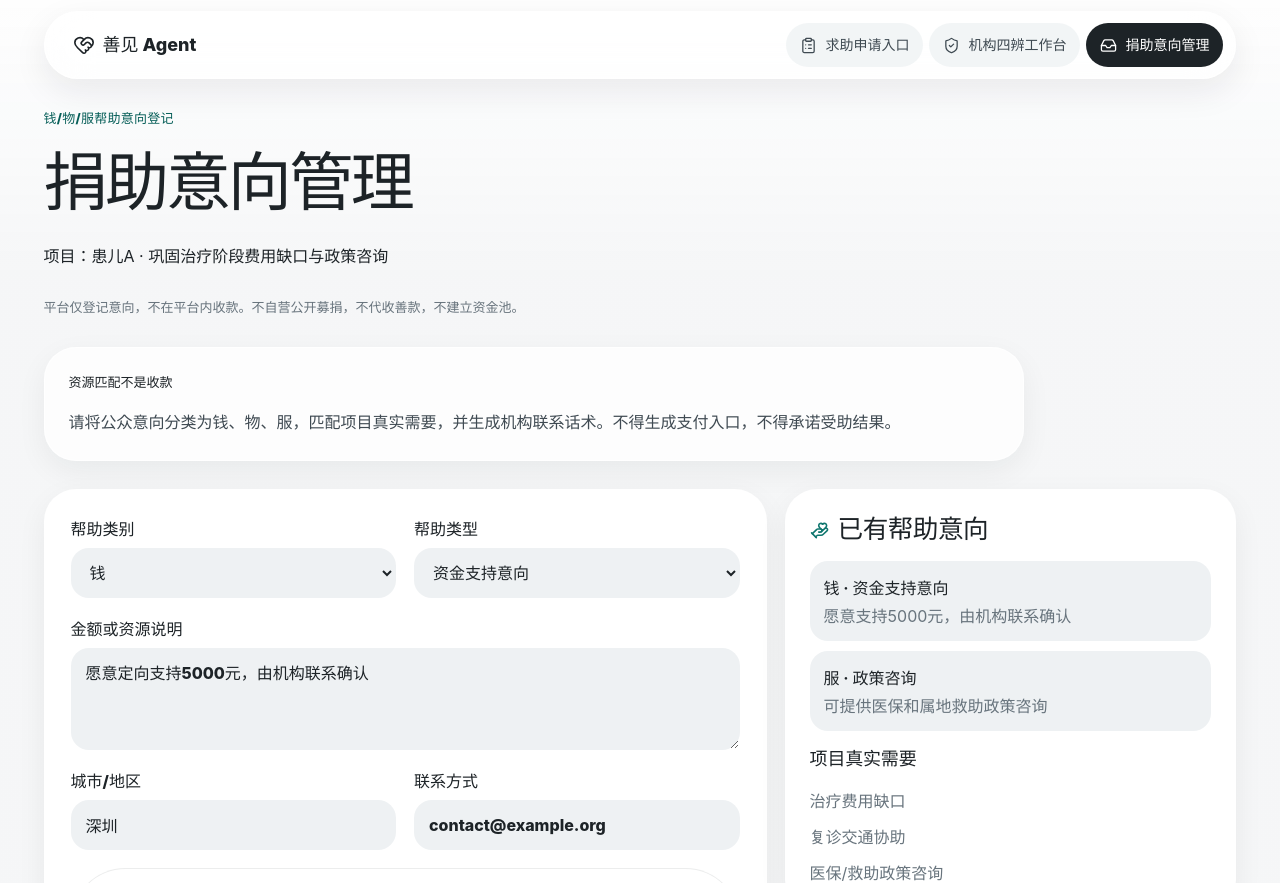
it: Shanjian Agent flow › registers the edited donation intention instead of a canned one
The image size is (1280, 883).
Select "服" in the dropdown labelled "帮助类别": (233,573) [70,548,396,598]
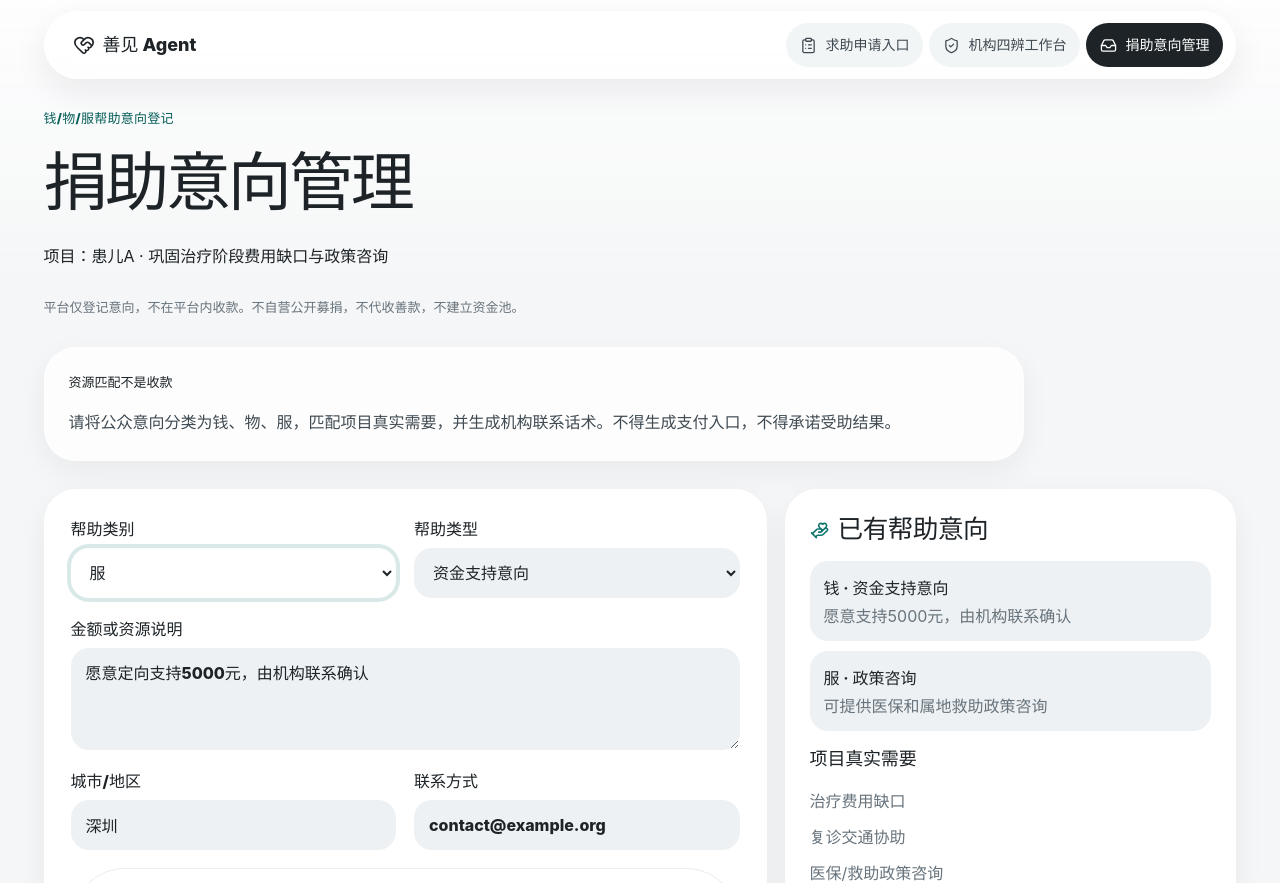
Select "政策咨询" in the dropdown labelled "帮助类型": (577,573) [414,548,740,598]
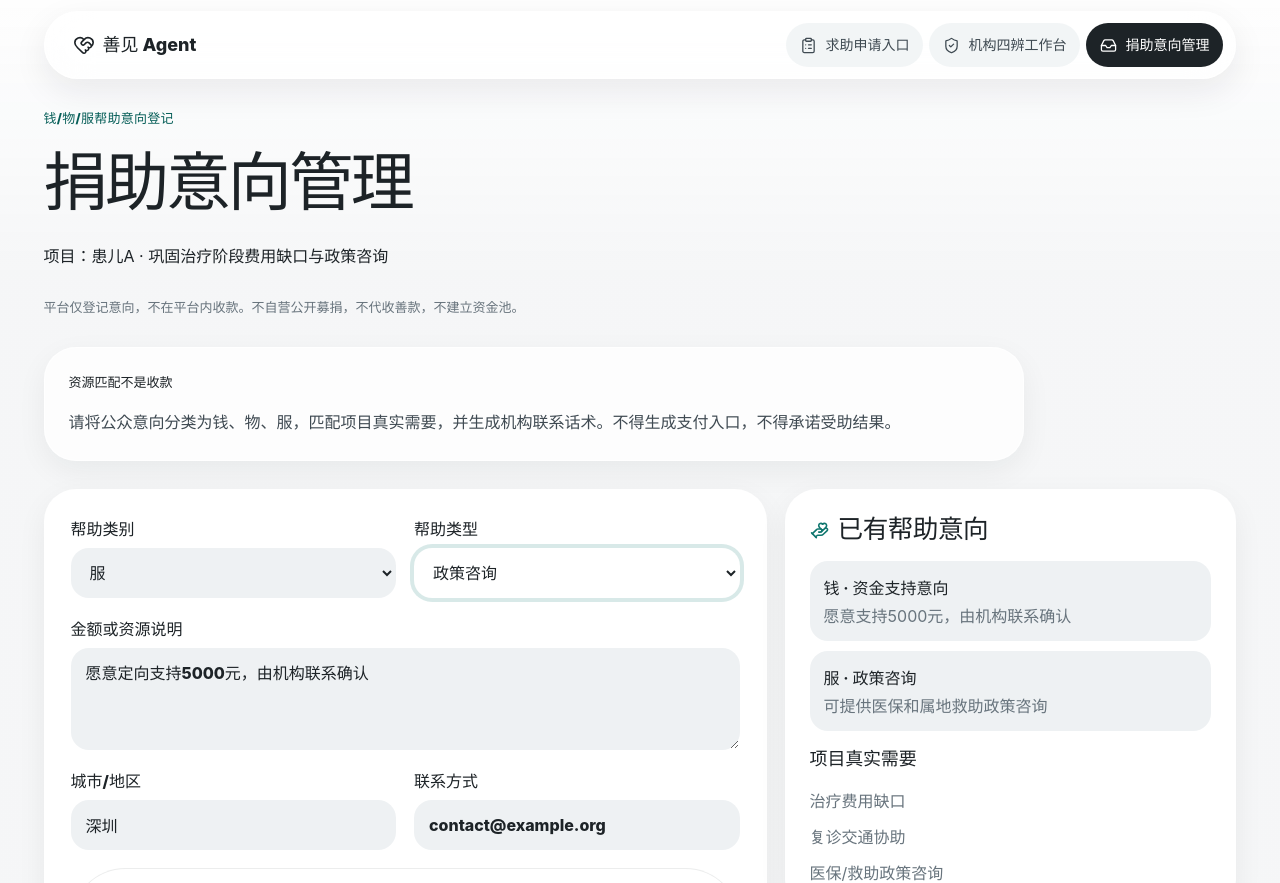
Replace the text in the text box labelled "金额或资源说明" with "可提供周末医保政策咨询": (405,699) [70,648,740,750]
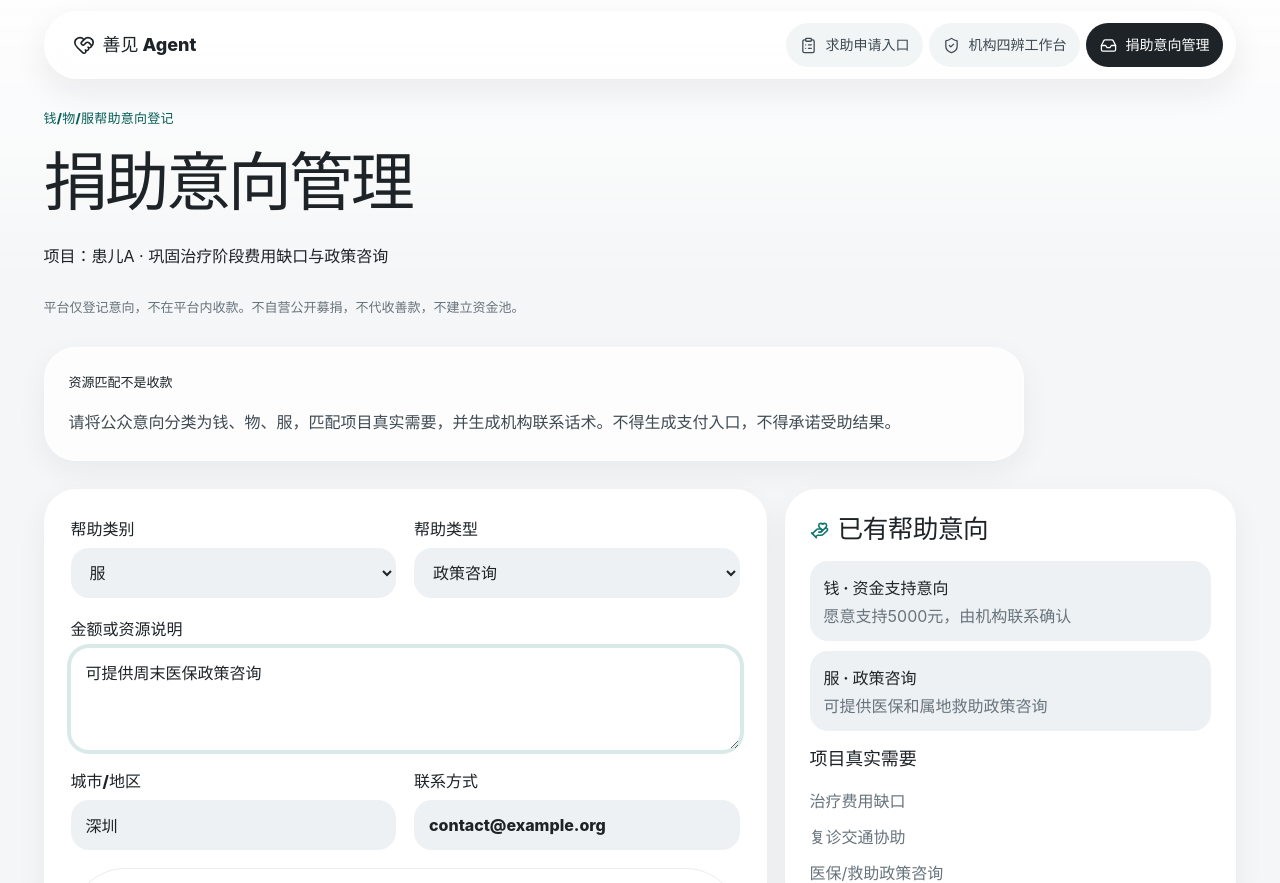
Replace the text in the field labelled "城市/地区" with "广州": (233,825) [70,800,396,850]
(page scrolled)
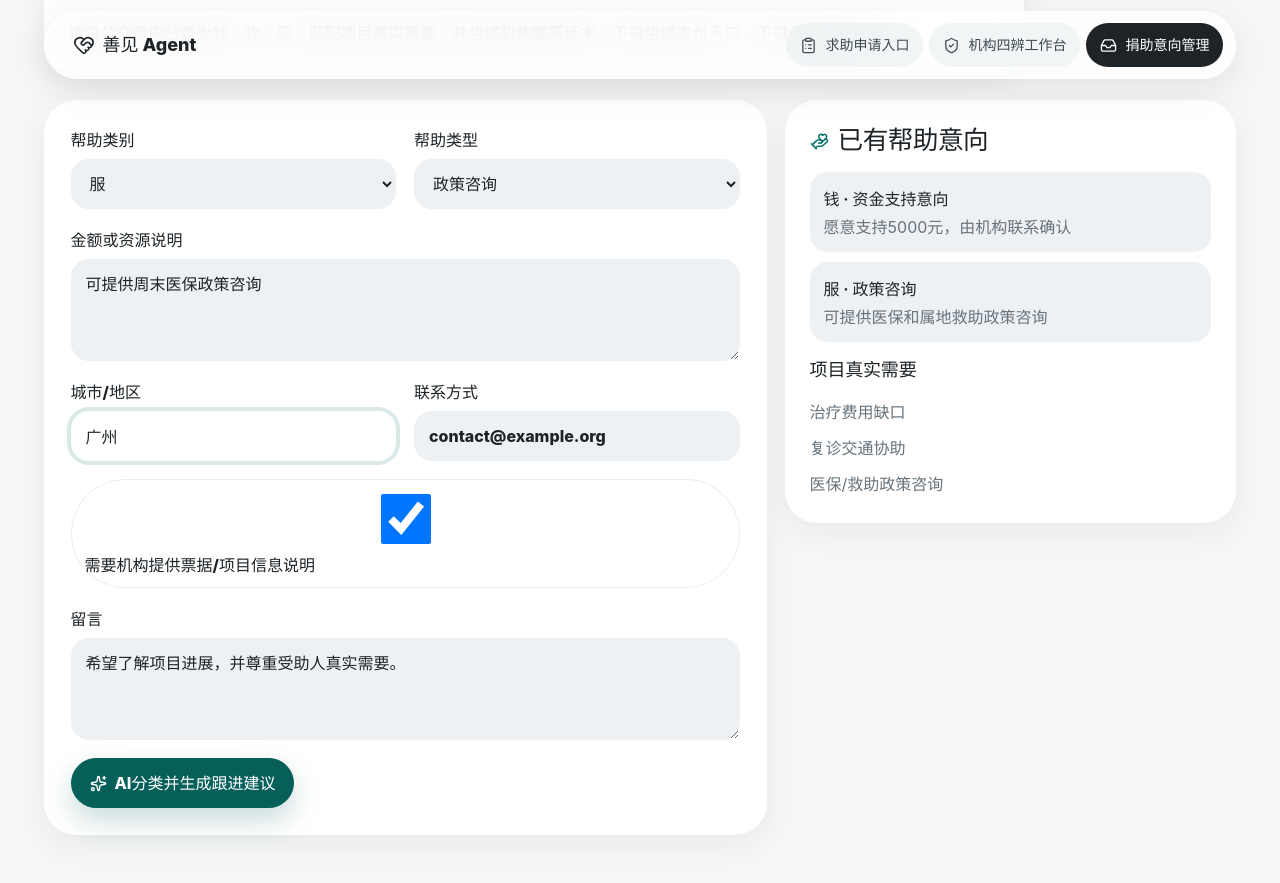
Click the button "AI分类并生成跟进建议": (182,783) [70,758,294,808]
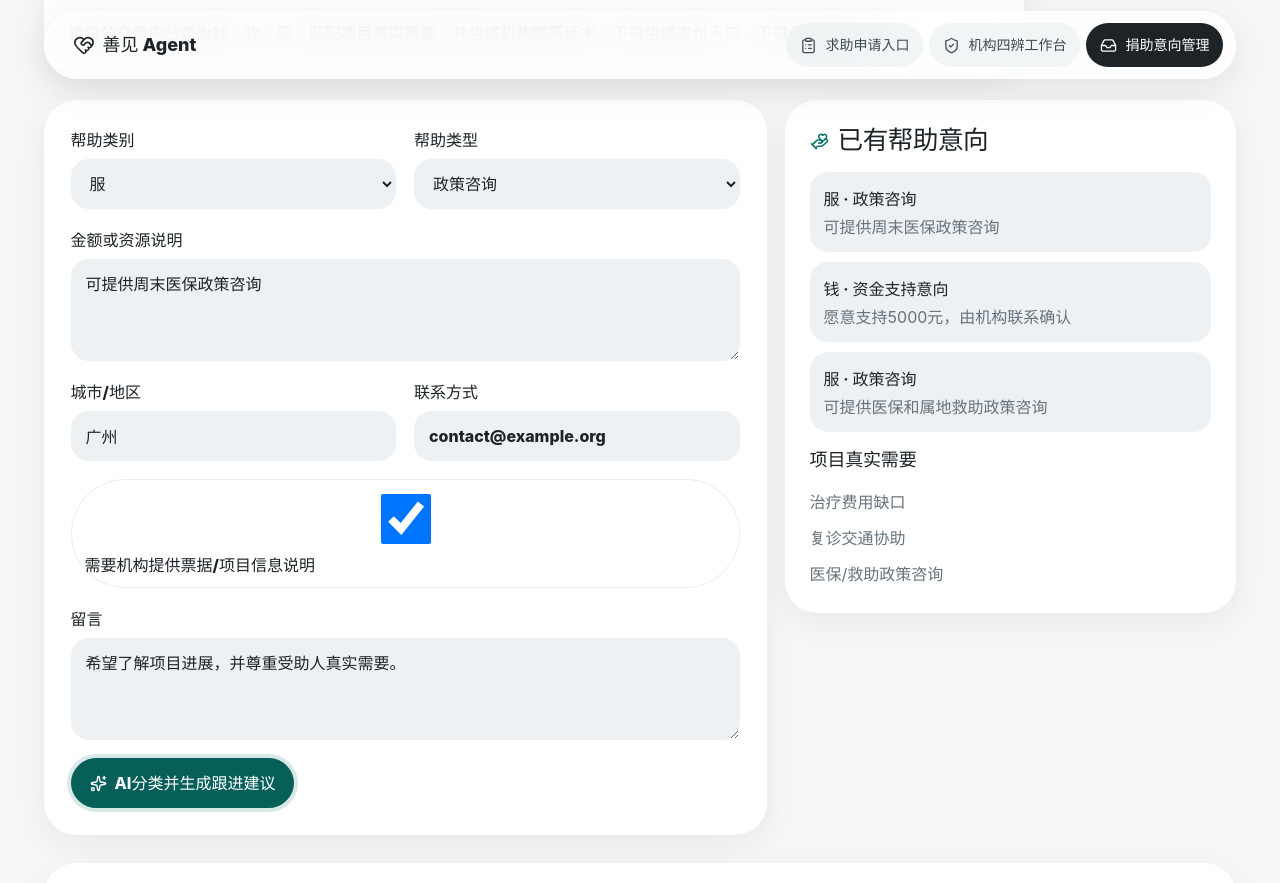
Check: the text "可提供周末医保政策咨询" is shown, box [824,217,1000,237]
